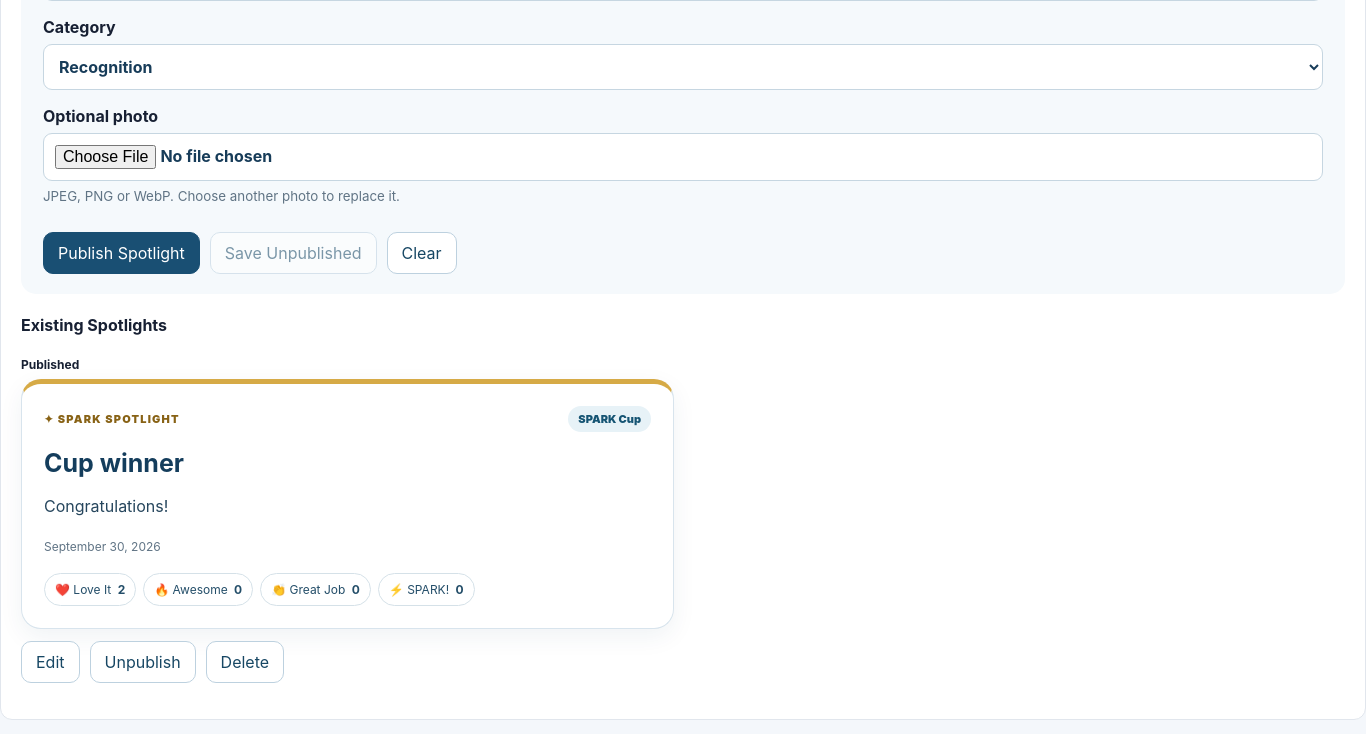
Test: supervisor can edit/publish/unpublish and deletion requires confirmation
Later steps or results of the test are not shown.
(page scrolled)
Click the button "Edit" at (50, 662), box [21,641,80,683]
(page scrolled)
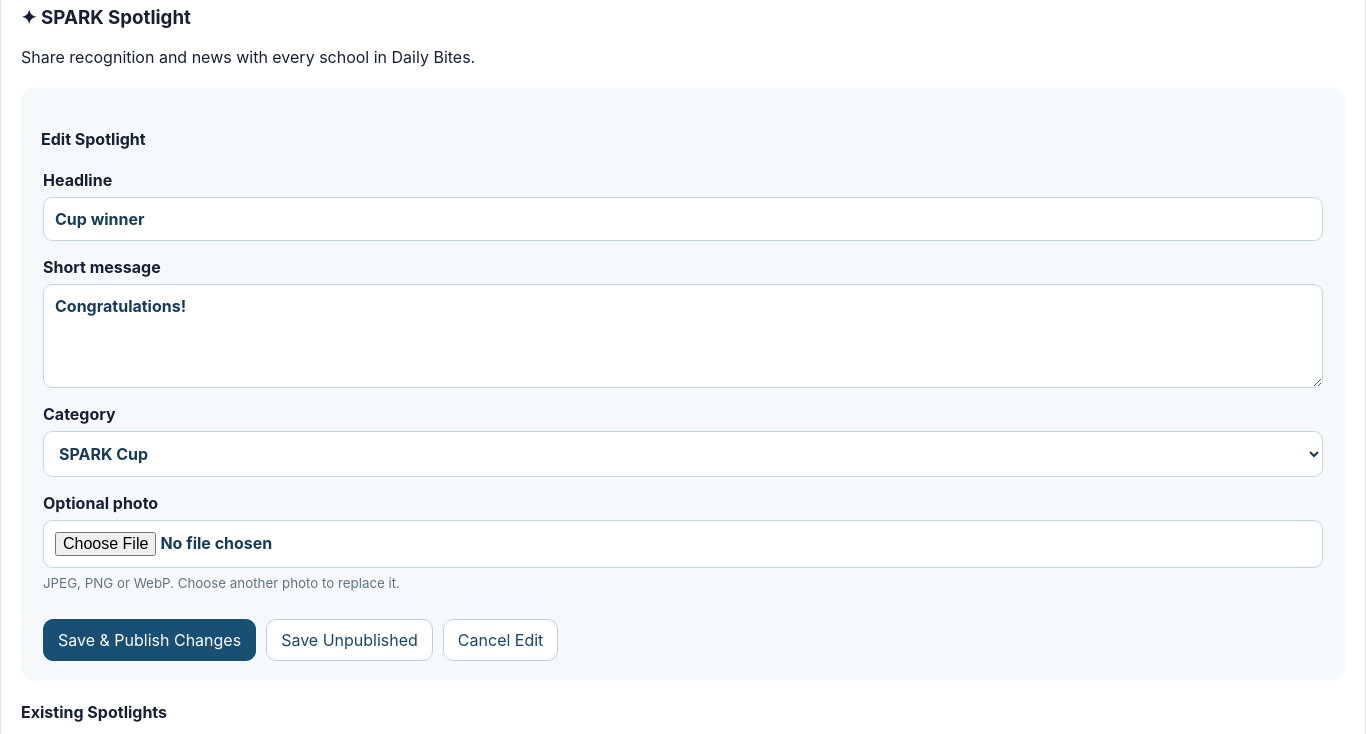
Expected: the field labelled "Headline" holds "Cup winner", [43,197,1323,241]
